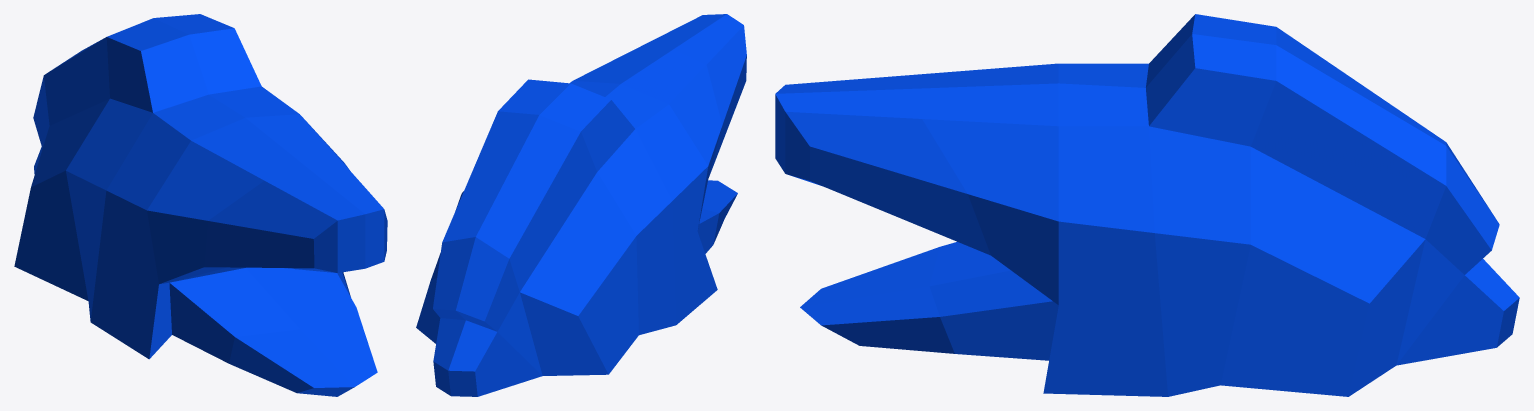
Rendered from study_stuffedToy_crocodile_meshCollider.fbx.
The picture shows the model from 3 angles, left to right: view 1: azimuth 30°, elevation 25°; view 2: azimuth 150°, elevation 25°; view 3: azimuth 270°, elevation 25°; orthographic projection. The views are drawn at different scales.
Parts seen in each view (by area): view 1: study_stuffedToy_crocodile_meshCollider; view 2: study_stuffedToy_crocodile_meshCollider; view 3: study_stuffedToy_crocodile_meshCollider.
Boxes of the visible parts, x1=… form: study_stuffedToy_crocodile_meshCollider: x1=14, y1=14, x2=387, y2=396; study_stuffedToy_crocodile_meshCollider: x1=416, y1=14, x2=746, y2=396; study_stuffedToy_crocodile_meshCollider: x1=775, y1=14, x2=1519, y2=396.
Size of the model in its own units: 11.6 by 13.08 by 29.08.
